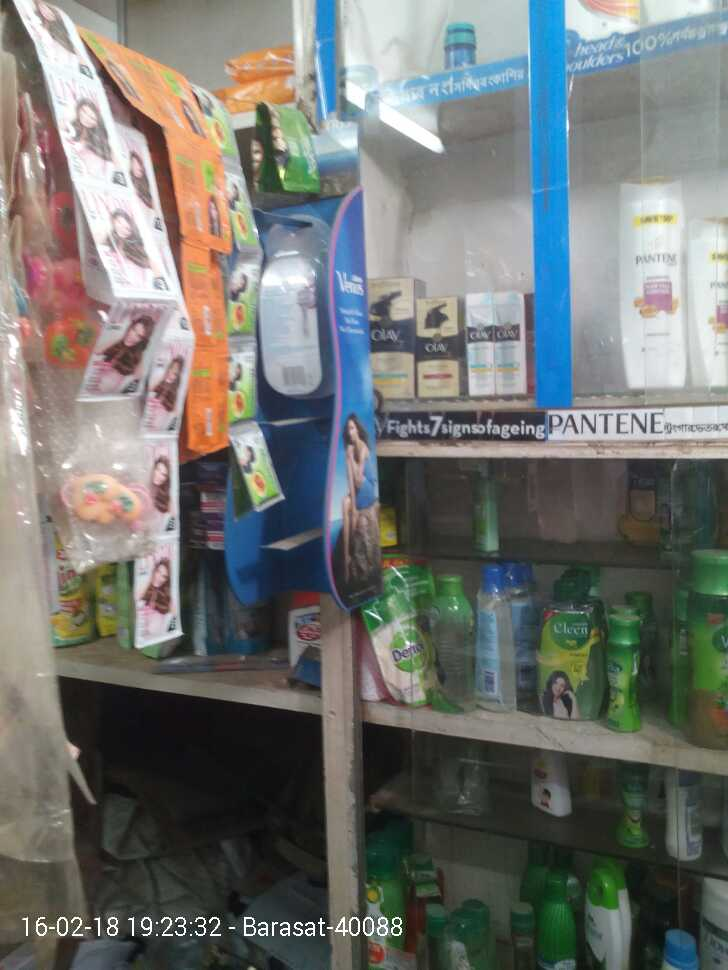beauty: (627, 178, 690, 390), (260, 242, 334, 397), (466, 293, 527, 397), (365, 275, 415, 400), (692, 224, 728, 393), (415, 298, 462, 403)
pharmacy: (442, 21, 477, 71)
